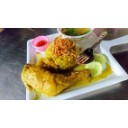briyani: (21, 43, 77, 95)
